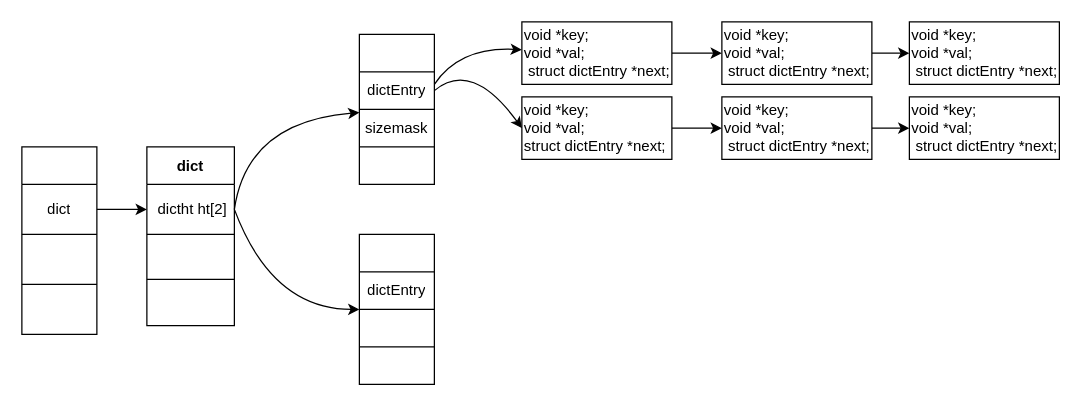
This 1081x406 diagram has some shape labels left out. The box of each missing label's shape, as (x1, y1, x2, y2) in pixels:
ht[0]: (358, 33, 434, 184)
ht[1]: (358, 233, 434, 384)
redisDb: (21, 146, 97, 334)
